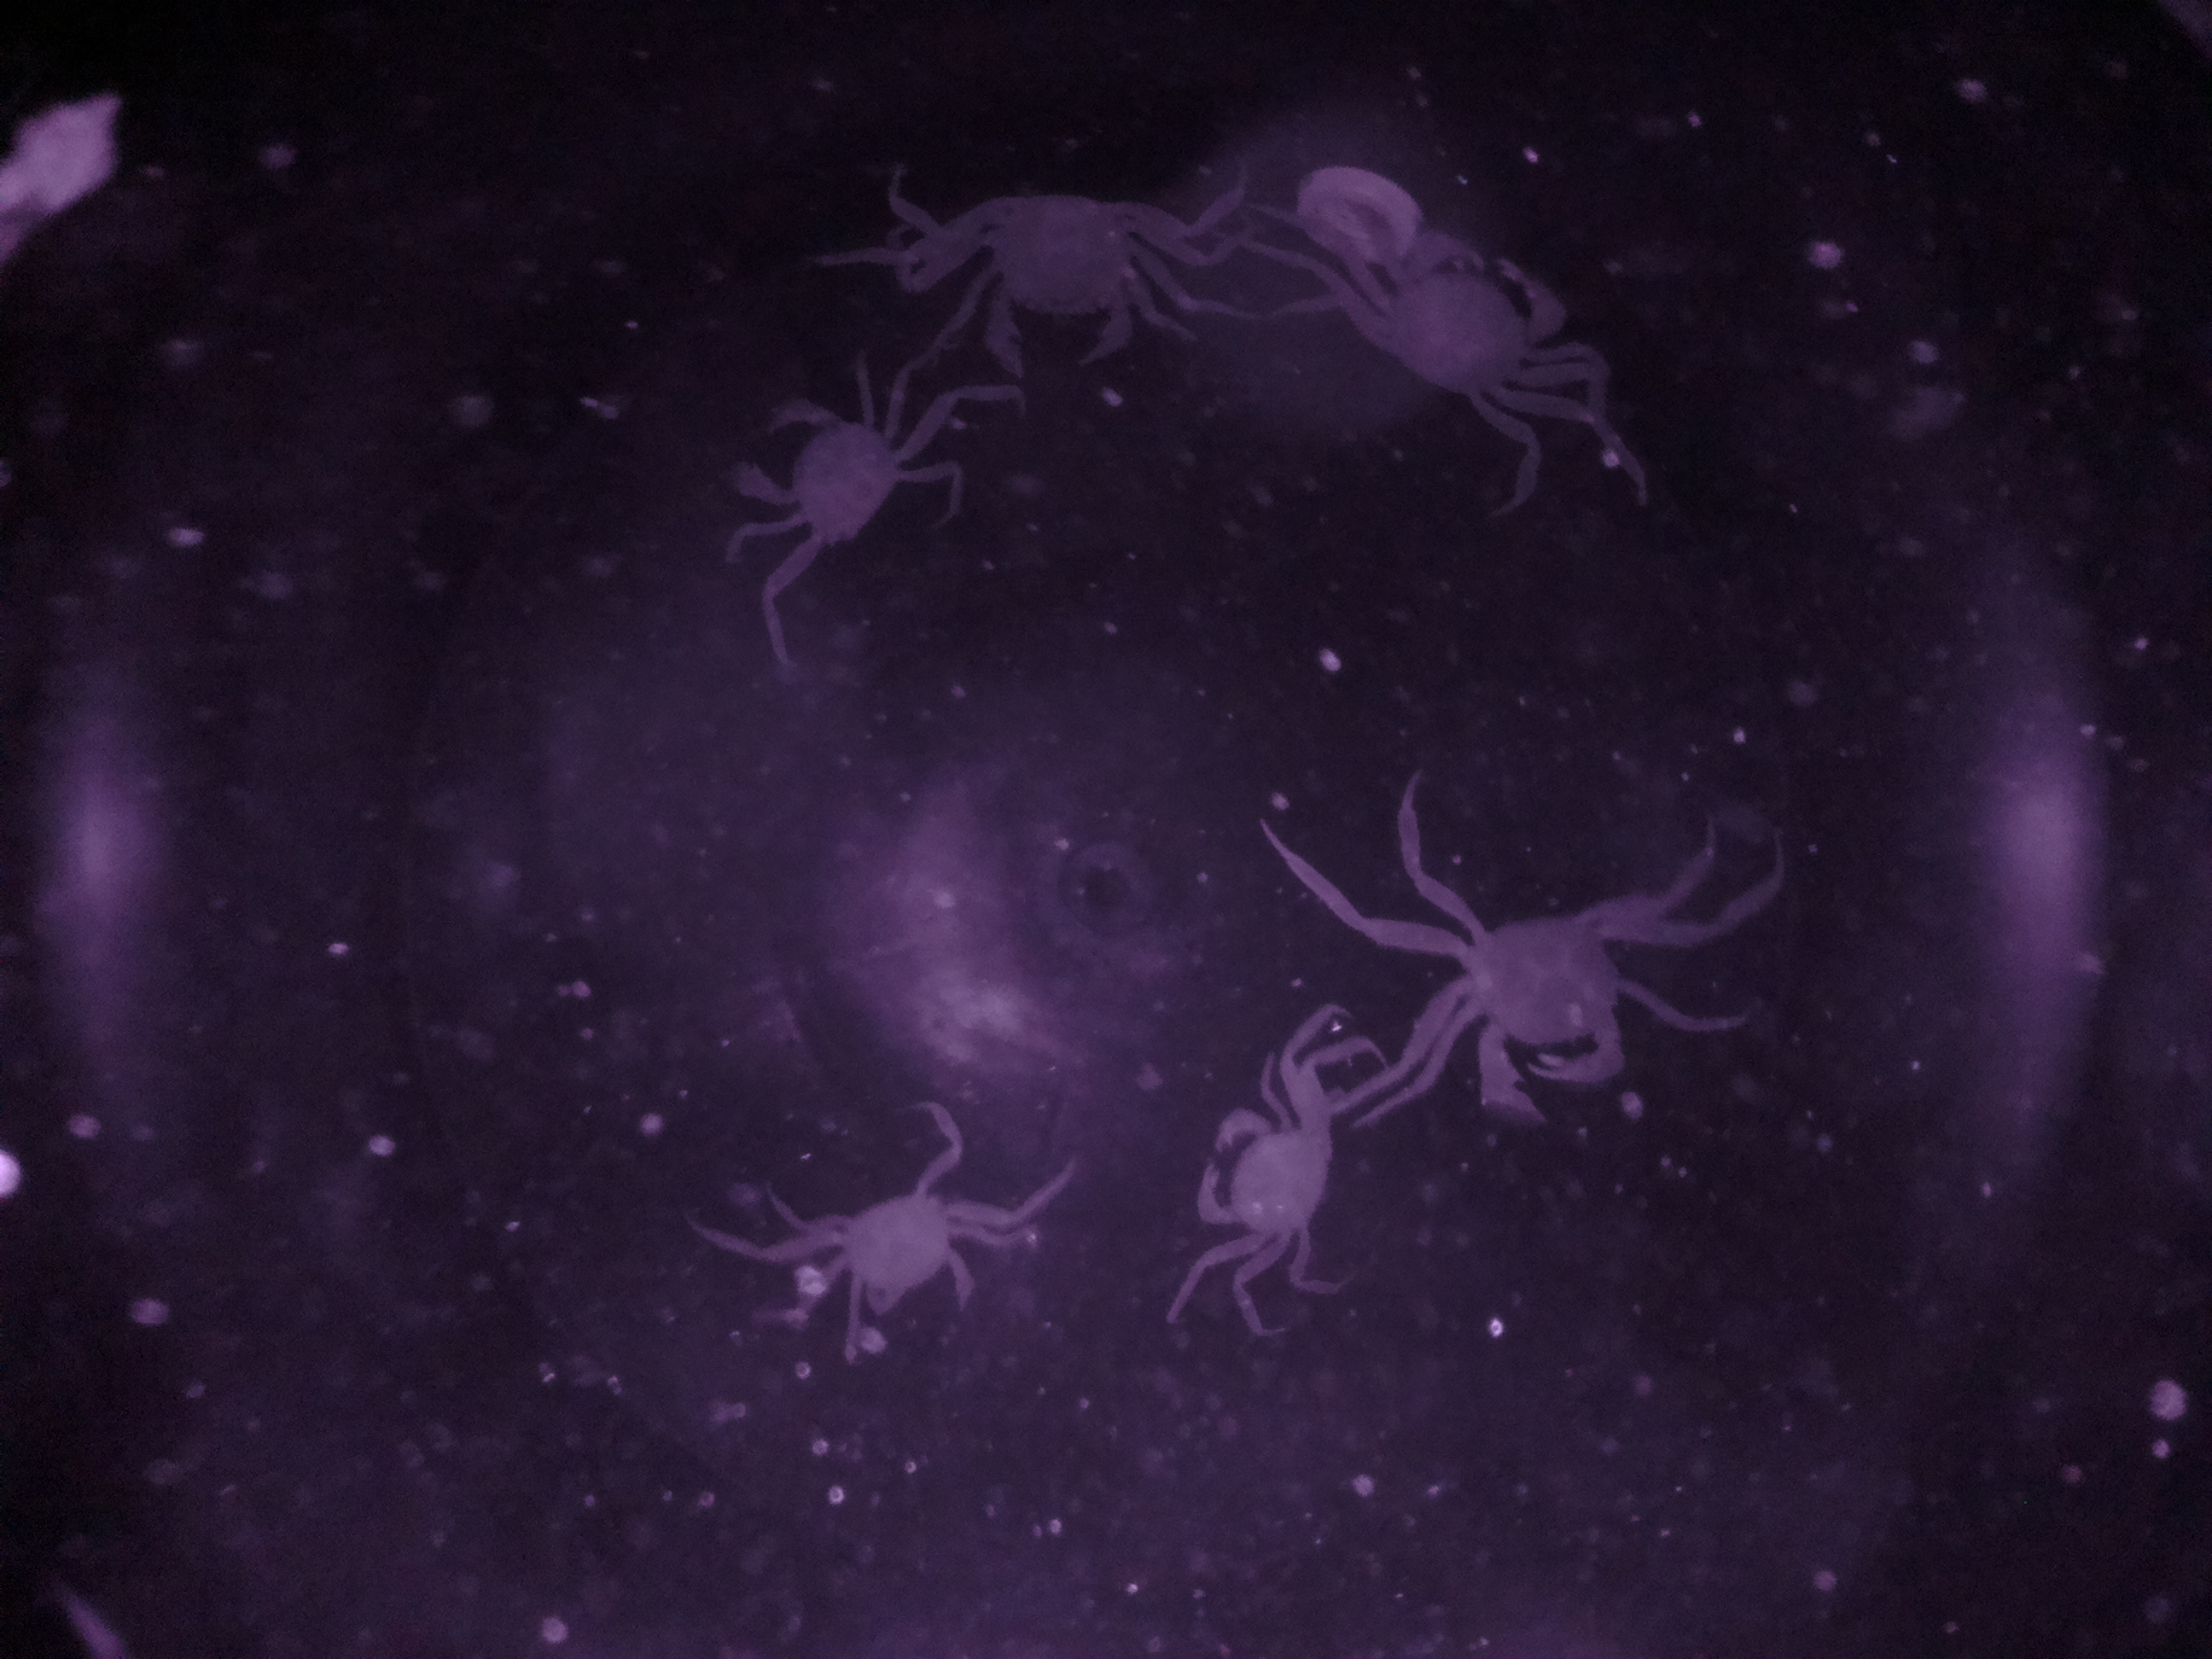Crab: (1360, 866, 1723, 1138), (878, 157, 1233, 397), (1325, 214, 1618, 451), (726, 1140, 1029, 1347), (712, 375, 967, 594), (1165, 1051, 1383, 1298)
